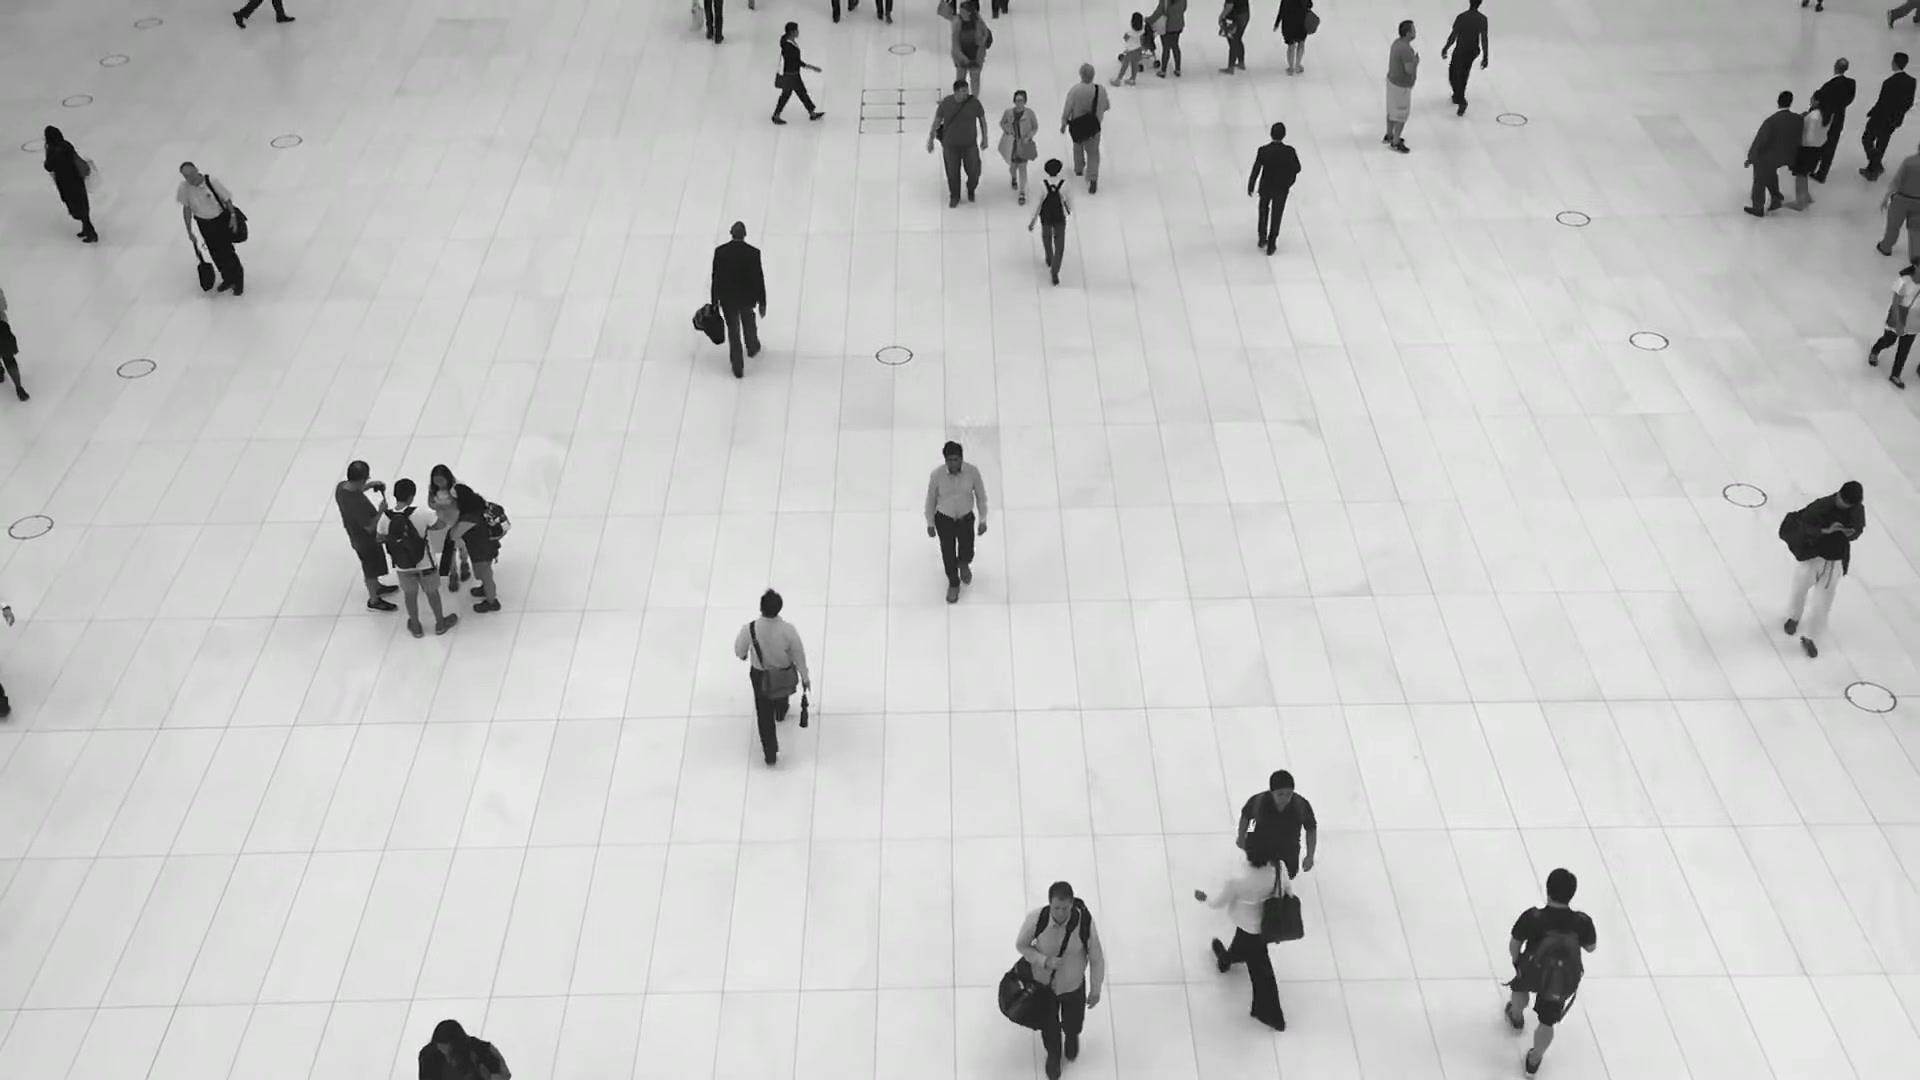person: (1505, 869, 1597, 1080), (1194, 833, 1292, 1026), (1014, 879, 1107, 1079), (1781, 480, 1866, 660), (375, 476, 460, 635), (734, 587, 808, 763), (923, 439, 991, 601), (334, 459, 400, 611), (175, 161, 246, 300), (709, 221, 767, 382), (1236, 769, 1319, 877), (1738, 90, 1805, 219), (929, 78, 989, 208), (1857, 51, 1916, 182), (1245, 123, 1302, 259), (41, 122, 99, 244), (449, 481, 501, 613), (1059, 62, 1111, 192), (1785, 89, 1835, 214), (768, 20, 822, 125), (1026, 156, 1071, 281), (426, 463, 470, 591), (1441, 0, 1489, 115), (1382, 18, 1420, 153), (998, 89, 1039, 204), (948, 1, 990, 95), (1111, 10, 1145, 87)
